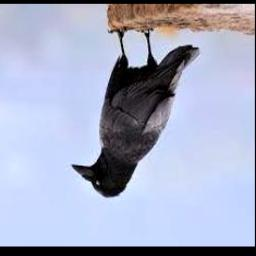Crow: (71, 28, 199, 199)
